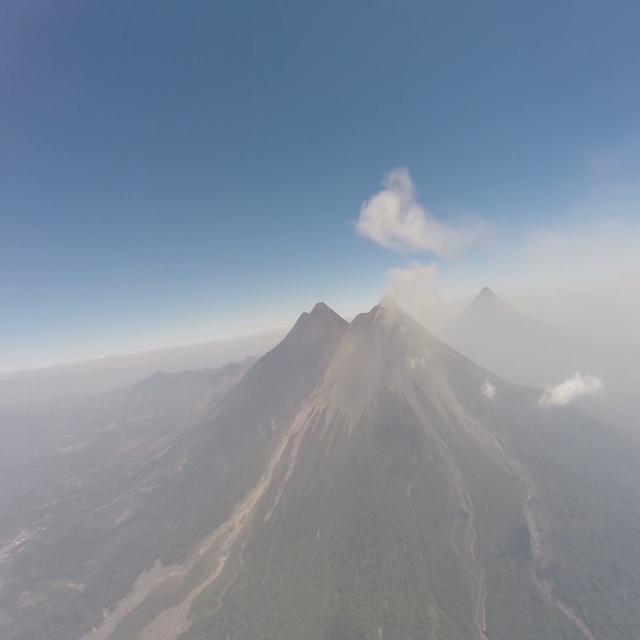Plume: (355, 162, 486, 270), (382, 263, 471, 355)
Summit: (373, 290, 404, 309)
